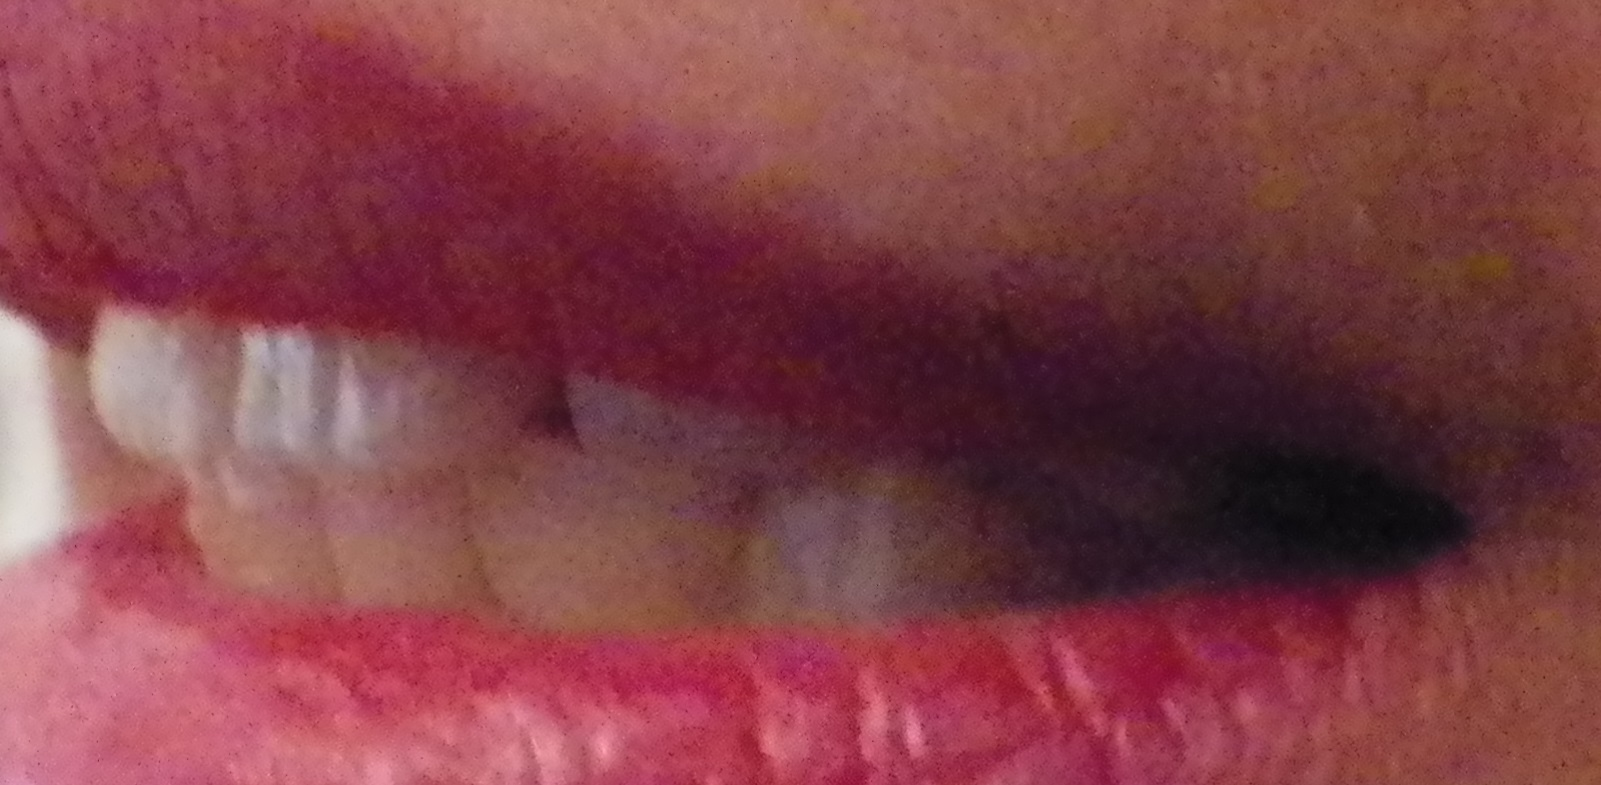boca: (62, 271, 1323, 646)
